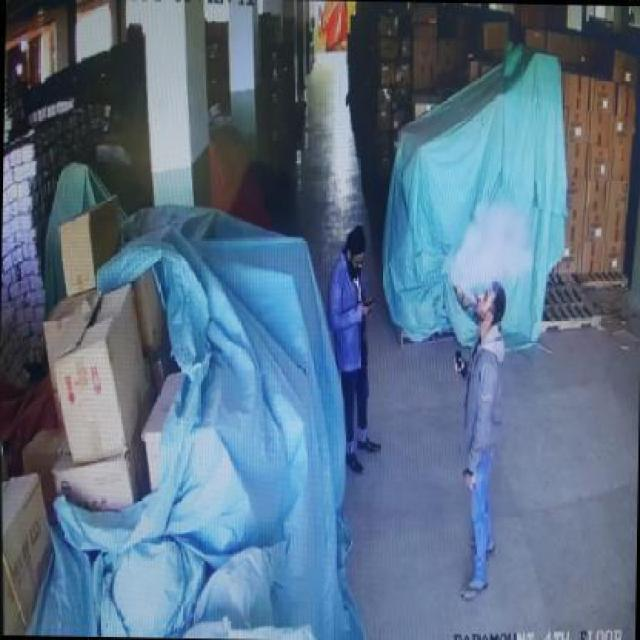fire: (451, 193, 534, 292)
